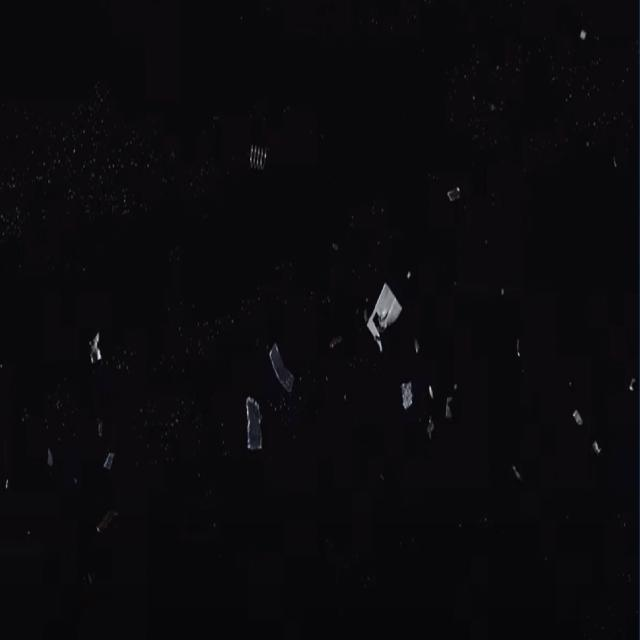large_debris: (363, 274, 404, 358), (262, 328, 300, 403), (80, 318, 118, 391), (240, 396, 268, 471), (574, 406, 604, 466), (247, 136, 278, 185), (394, 373, 418, 418), (101, 449, 126, 474)
